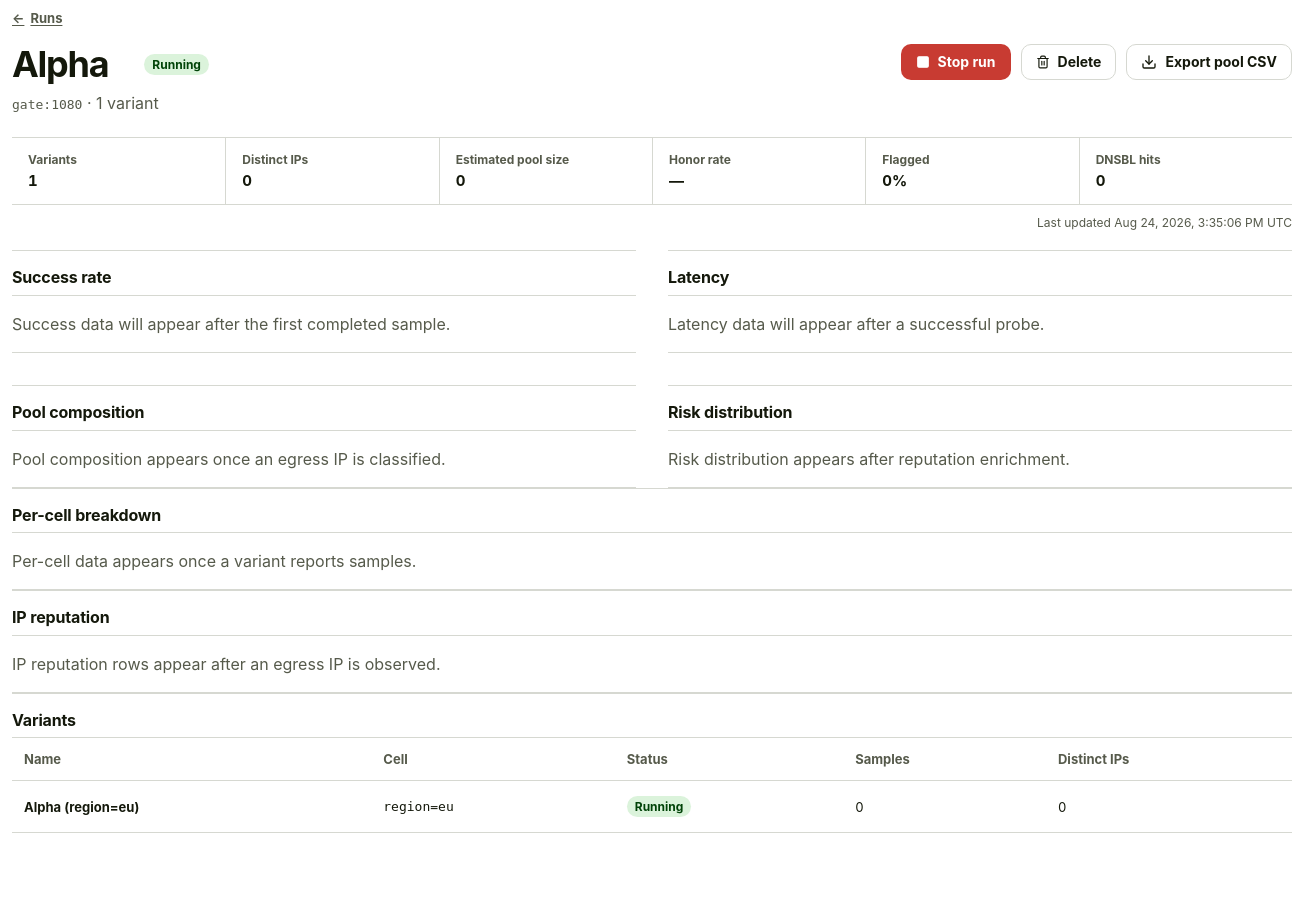
Scenario: RunPage › renames the run from the header and shows the cascaded variant name
Click the button with aria-label "Rename run name". click: click(72, 65)
box: [12, 44, 132, 85]
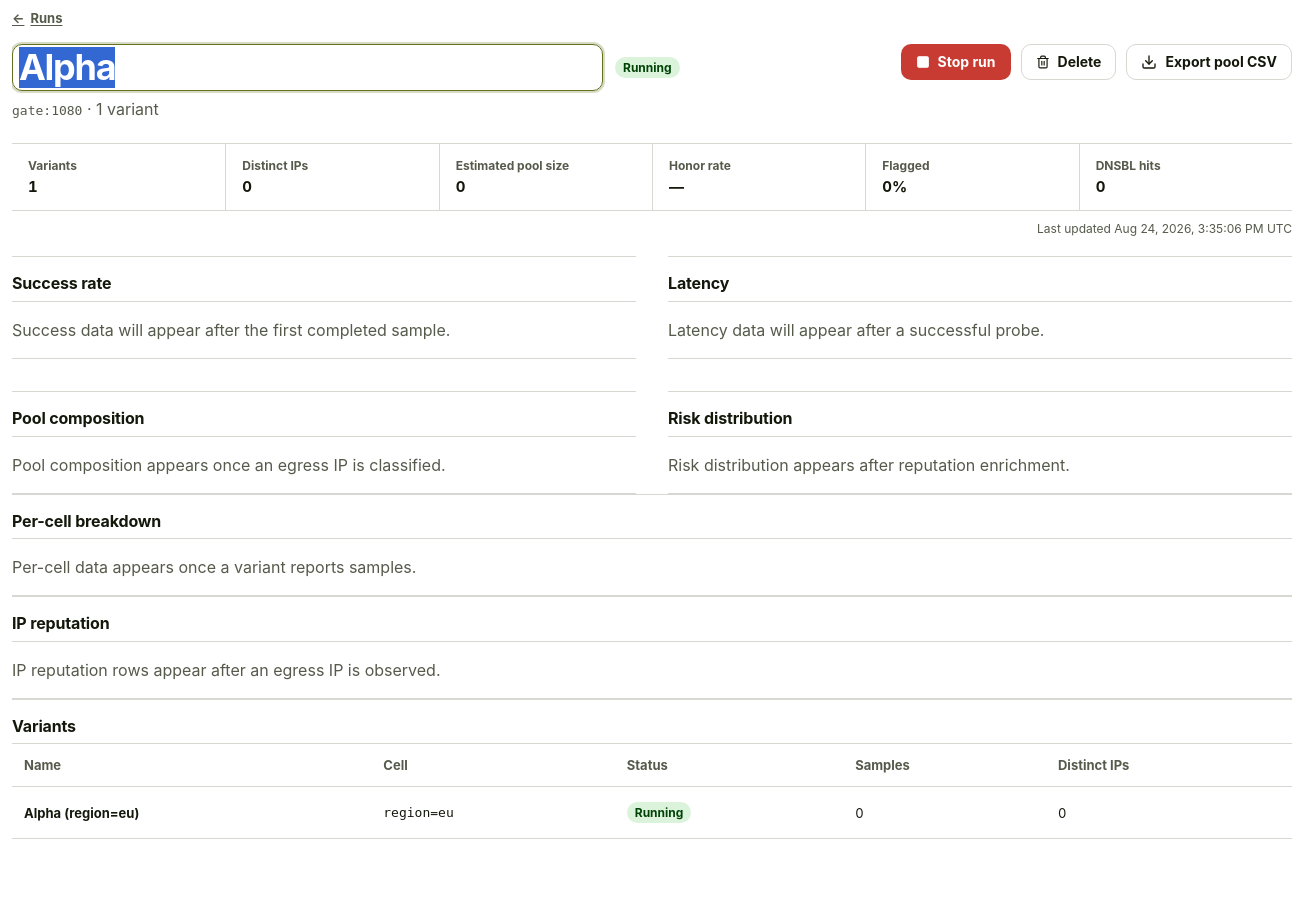
Replace the text in the field named "run name" with "Beta". click: (308, 68)
box: [12, 44, 603, 91]
Then press Enter
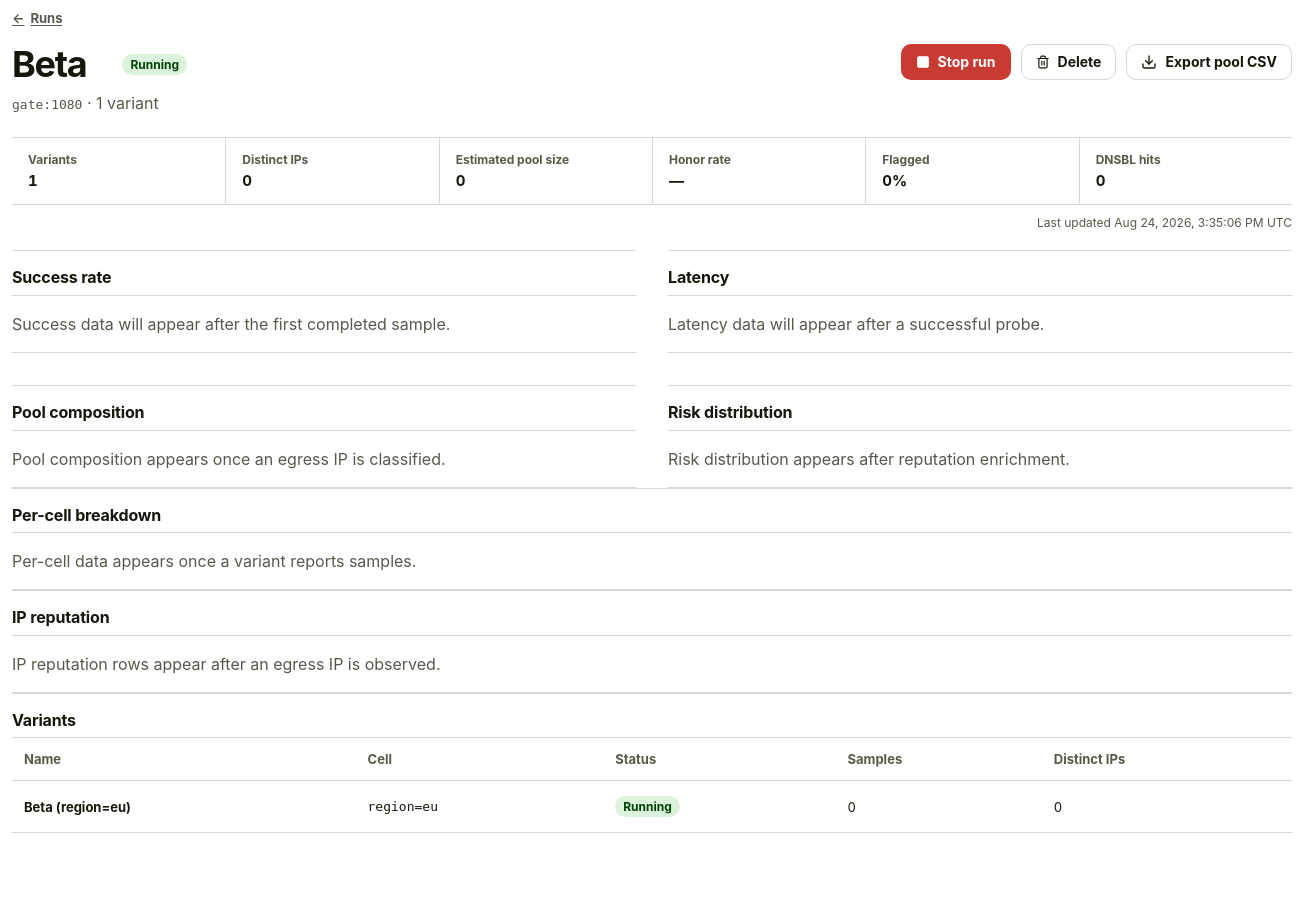
Result: the heading "Beta" is shown at [12, 44, 110, 85]
Result: the text "Beta (region=eu)" is shown at [24, 799, 131, 815]
